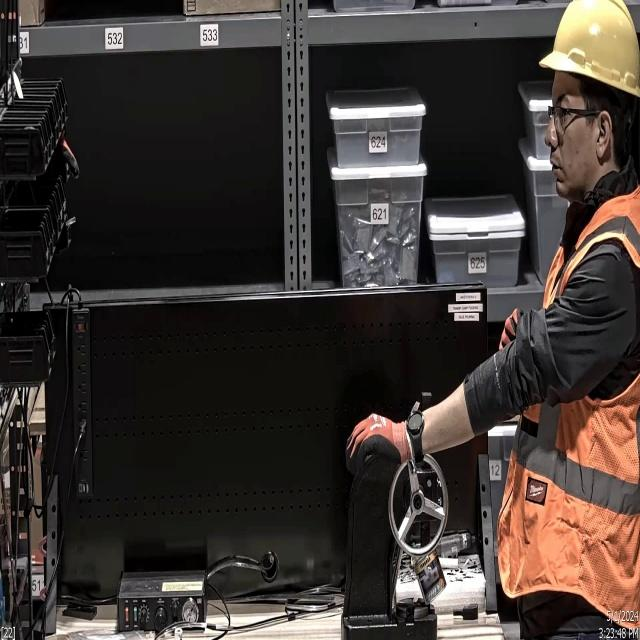gloves: (345, 409, 411, 473)
